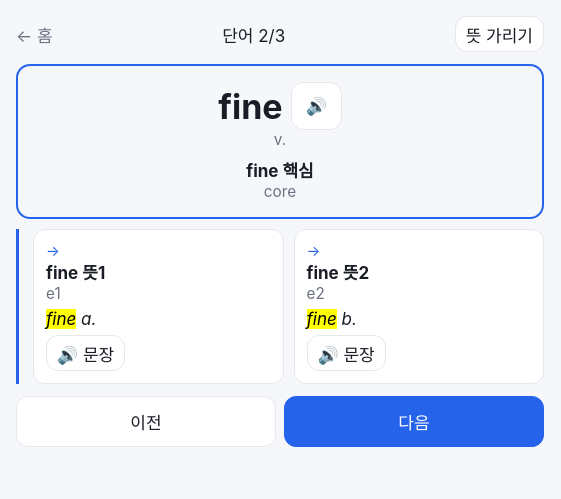
Test: Tree › hide-meanings toggle shows only the word, each tap reveals the next part, and the setting persists
Expected: the text "fine 핵심" is shown, [246, 161, 314, 181]
Click the button "뜻 가리기" at (499, 34), box [455, 16, 544, 52]
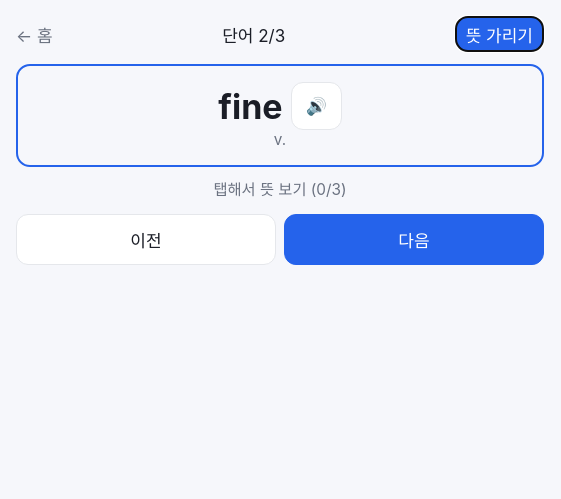
Now the text "fine 핵심" is gone
Click the text "fine" at (250, 106), box [218, 86, 283, 126]
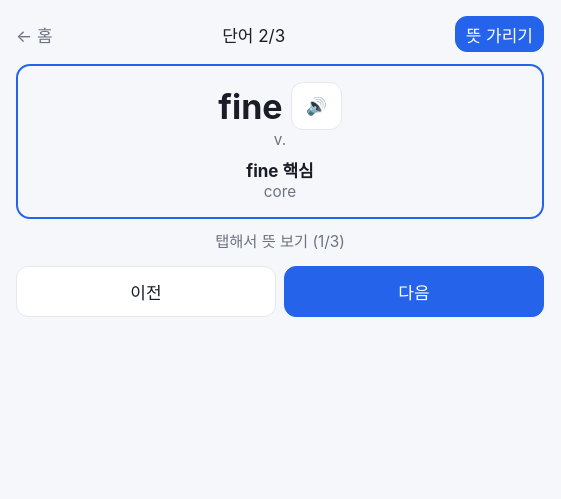
Expected: the text "fine 뜻1" is not shown
Now the text "fine 핵심" is shown
Click the text "fine 핵심" at (280, 171), box [246, 161, 314, 181]
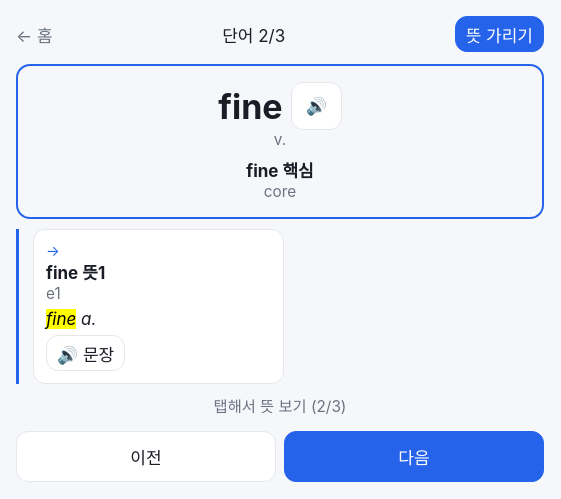
Expected: the text "fine 뜻2" is not shown
Now the text "fine 뜻1" is shown, box [46, 263, 105, 283]
Click the button "다음" at (414, 457), box [284, 431, 544, 482]
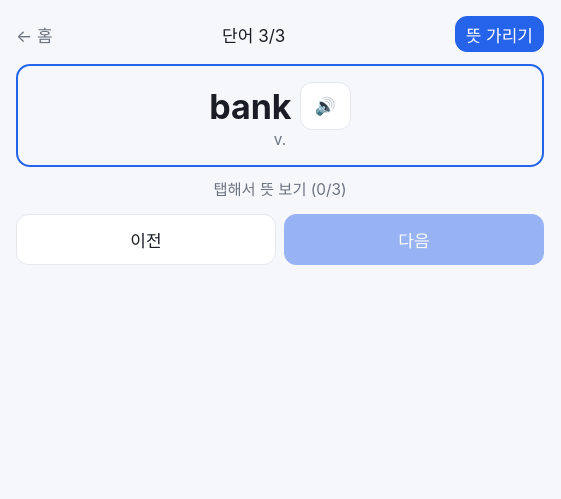
Now the text "bank" is shown, box [209, 86, 292, 126]
